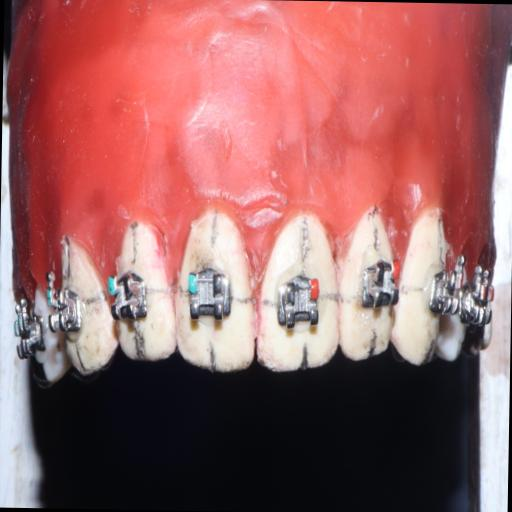correct_brace: (184, 260, 236, 330)
incorrect_brace: (274, 268, 323, 334)
